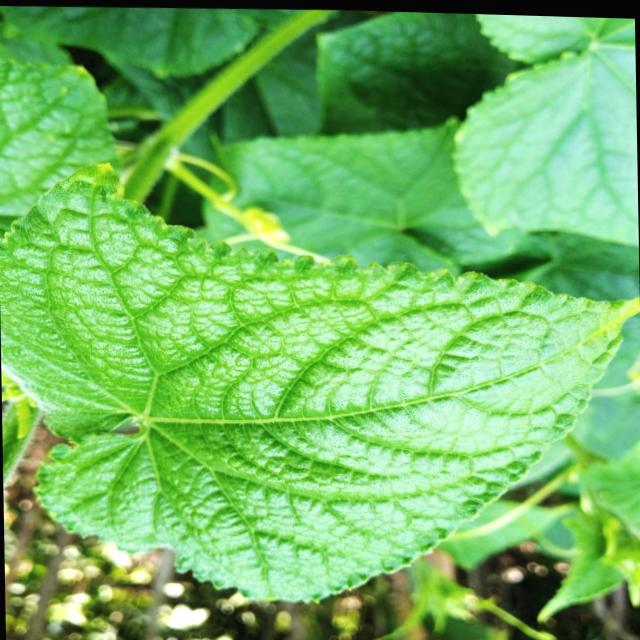Fresh-Leaf: (2, 158, 640, 605)
